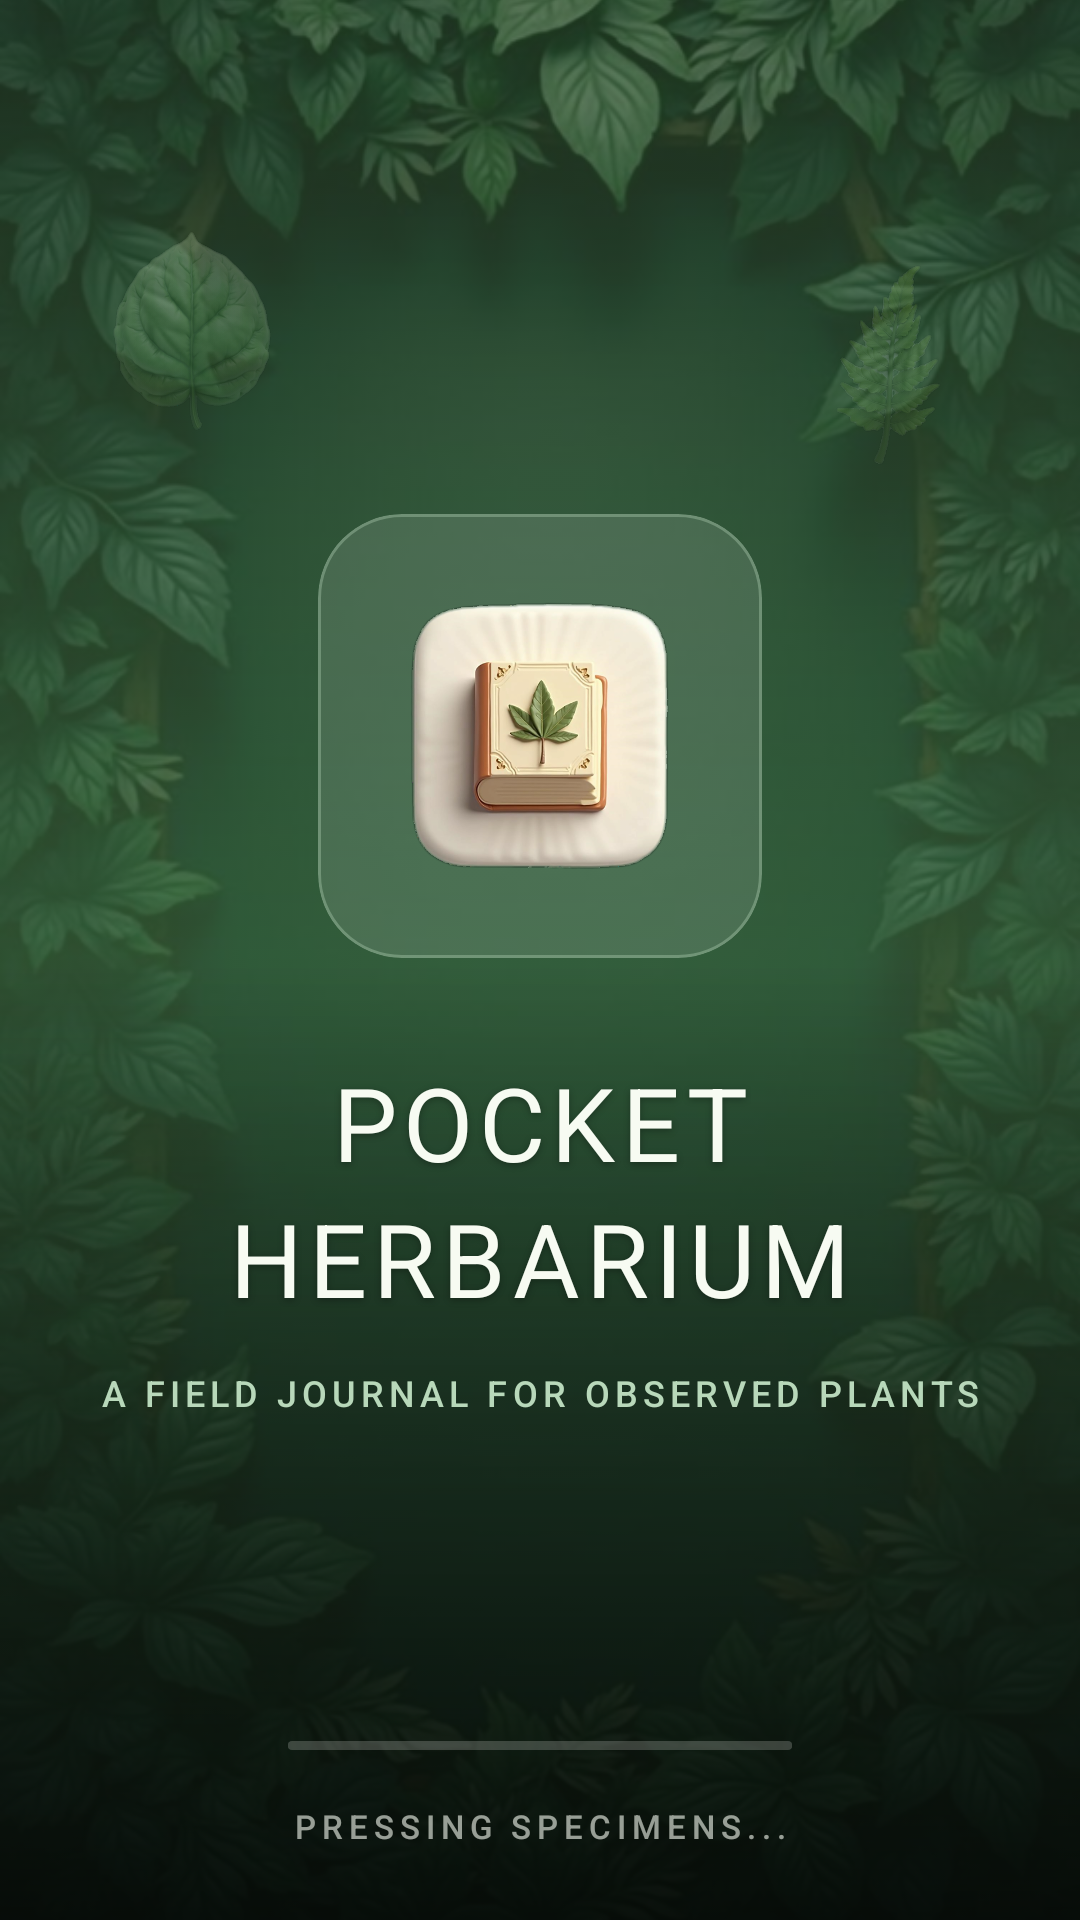

Where to tap for icons on this 1080×1920 app screen, as point (x, y):
Herbarium press book: point (540, 735)
sprite fern frond: point (913, 346)
sprite leaf oval: point (191, 302)
